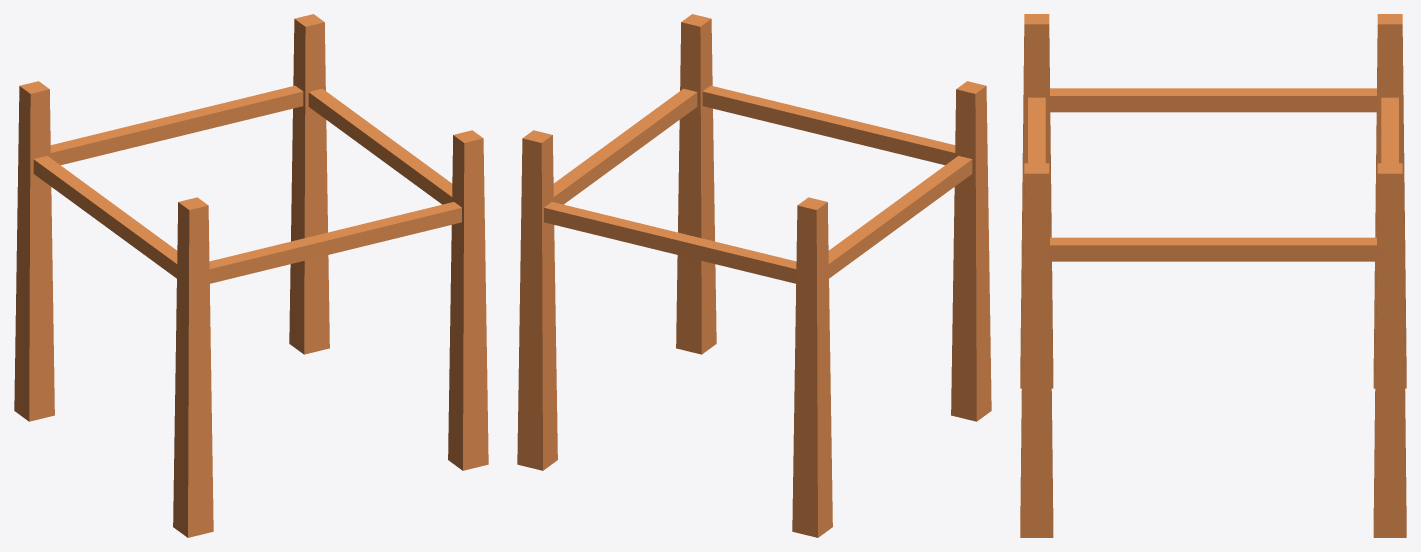
Rendered from structure.fbx.
The picture shows the model from 3 angles, left to right: view 1: azimuth 30°, elevation 25°; view 2: azimuth 150°, elevation 25°; view 3: azimuth 270°, elevation 25°; orthographic projection. The views are drawn at different scales.
Parts seen in each view (by area): view 1: structure; view 2: structure; view 3: structure.
Boxes of the visible parts, bbox=[...] form: structure: bbox=[14, 14, 488, 537]; structure: bbox=[517, 14, 991, 537]; structure: bbox=[1020, 14, 1406, 537].
Bounding box in the file's own units: 5 × 5.17 × 5.
